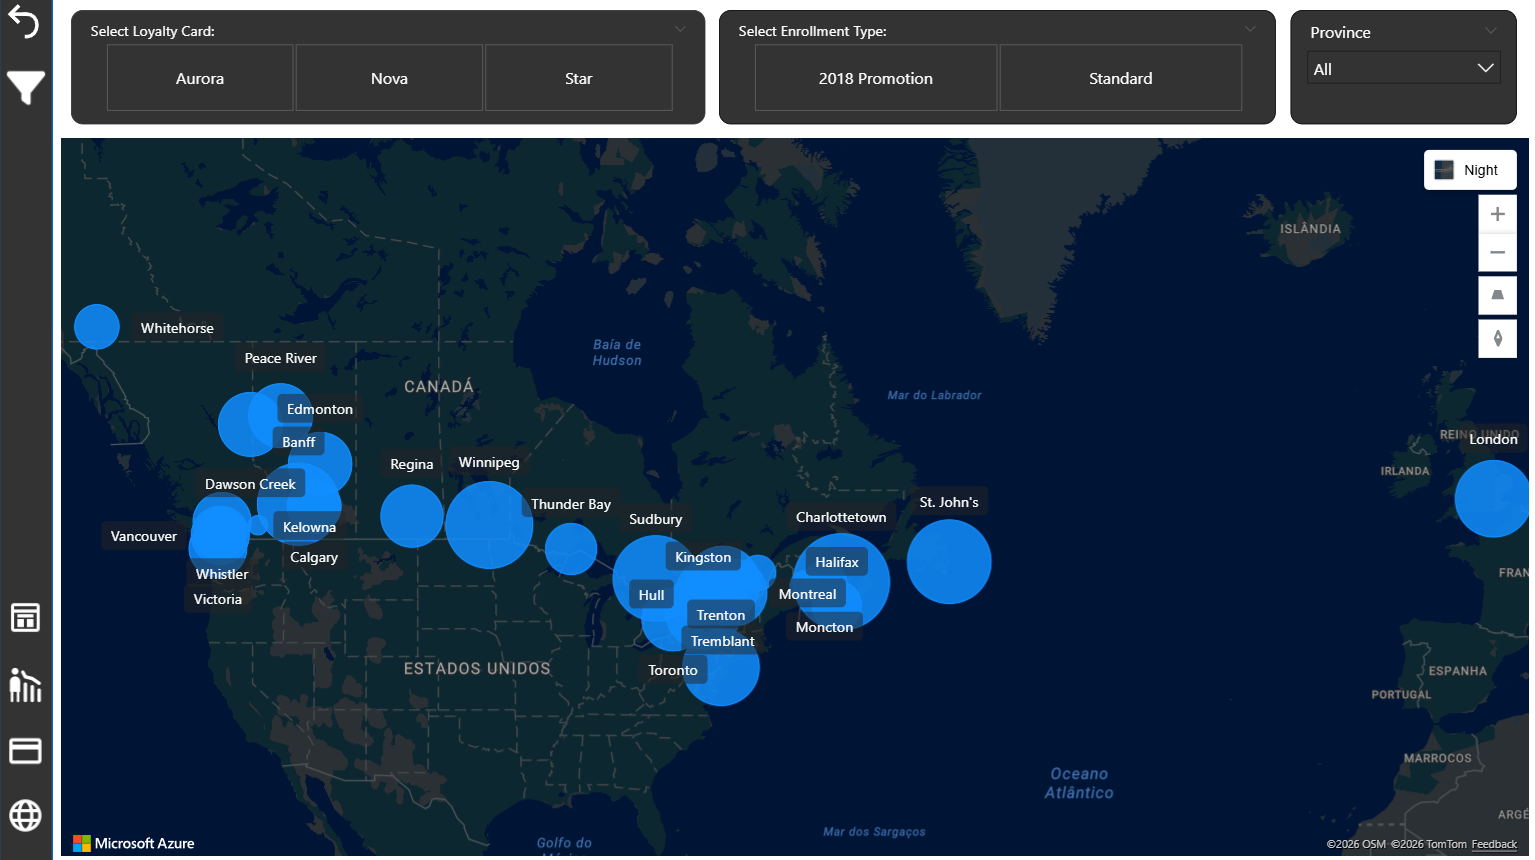

Layout of this report page (visuals, bound fields, positions):
{"tool":"powerbi","page":{"name":"Geography","canvas":[1280,720],"ordinal":3},"visuals":[{"type":"shape","box":[0,0,45,720],"z":0},{"type":"actionButton","box":[1.4,0,44.3,38.6],"z":1000},{"type":"actionButton","box":[2.9,55,44.3,40],"z":2000},{"type":"azureMap","fields":{"Size":["Measures DAX.Churn Rate (Time)"],"Category":["Customer_Loyalty_History.City","Customer_Loyalty_History.Province"]},"box":[46.2,111.2,1233.8,608.8],"z":3000},{"type":"slicer","fields":{"Values":["Customer_Loyalty_History.LoyaltyCard"]},"box":[60,10,528.8,95],"z":4000},{"type":"slicer","fields":{"Values":["Customer_Loyalty_History.Province"]},"box":[1076.2,10,188.8,95],"z":5000},{"type":"slicer","fields":{"Values":["Customer_Loyalty_History.EnrollmentType"]},"box":[600,10,463.8,95],"z":6000},{"type":"actionButton","box":[0,496.7,44.2,40],"z":8000},{"type":"actionButton","box":[0,551.9,44.4,40],"z":9000},{"type":"actionButton","box":[0,607.3,44.4,40],"z":10000},{"type":"actionButton","box":[0,661.4,44.3,40],"z":11000}]}

Visuals, with their boxes in screenshot pixels (x1, y1, x2, y2):
shape: region(0, 0, 53, 848)
actionButton: region(2, 0, 54, 45)
actionButton: region(3, 65, 56, 112)
azureMap - Measures DAX.Churn Rate (Time) x Customer_Loyalty_History.City: region(54, 131, 1507, 848)
slicer - Customer_Loyalty_History.LoyaltyCard: region(71, 12, 693, 124)
slicer - Customer_Loyalty_History.Province: region(1267, 12, 1489, 124)
slicer - Customer_Loyalty_History.EnrollmentType: region(706, 12, 1252, 124)
actionButton: region(0, 585, 52, 632)
actionButton: region(0, 650, 52, 697)
actionButton: region(0, 715, 52, 762)
actionButton: region(0, 779, 52, 826)
